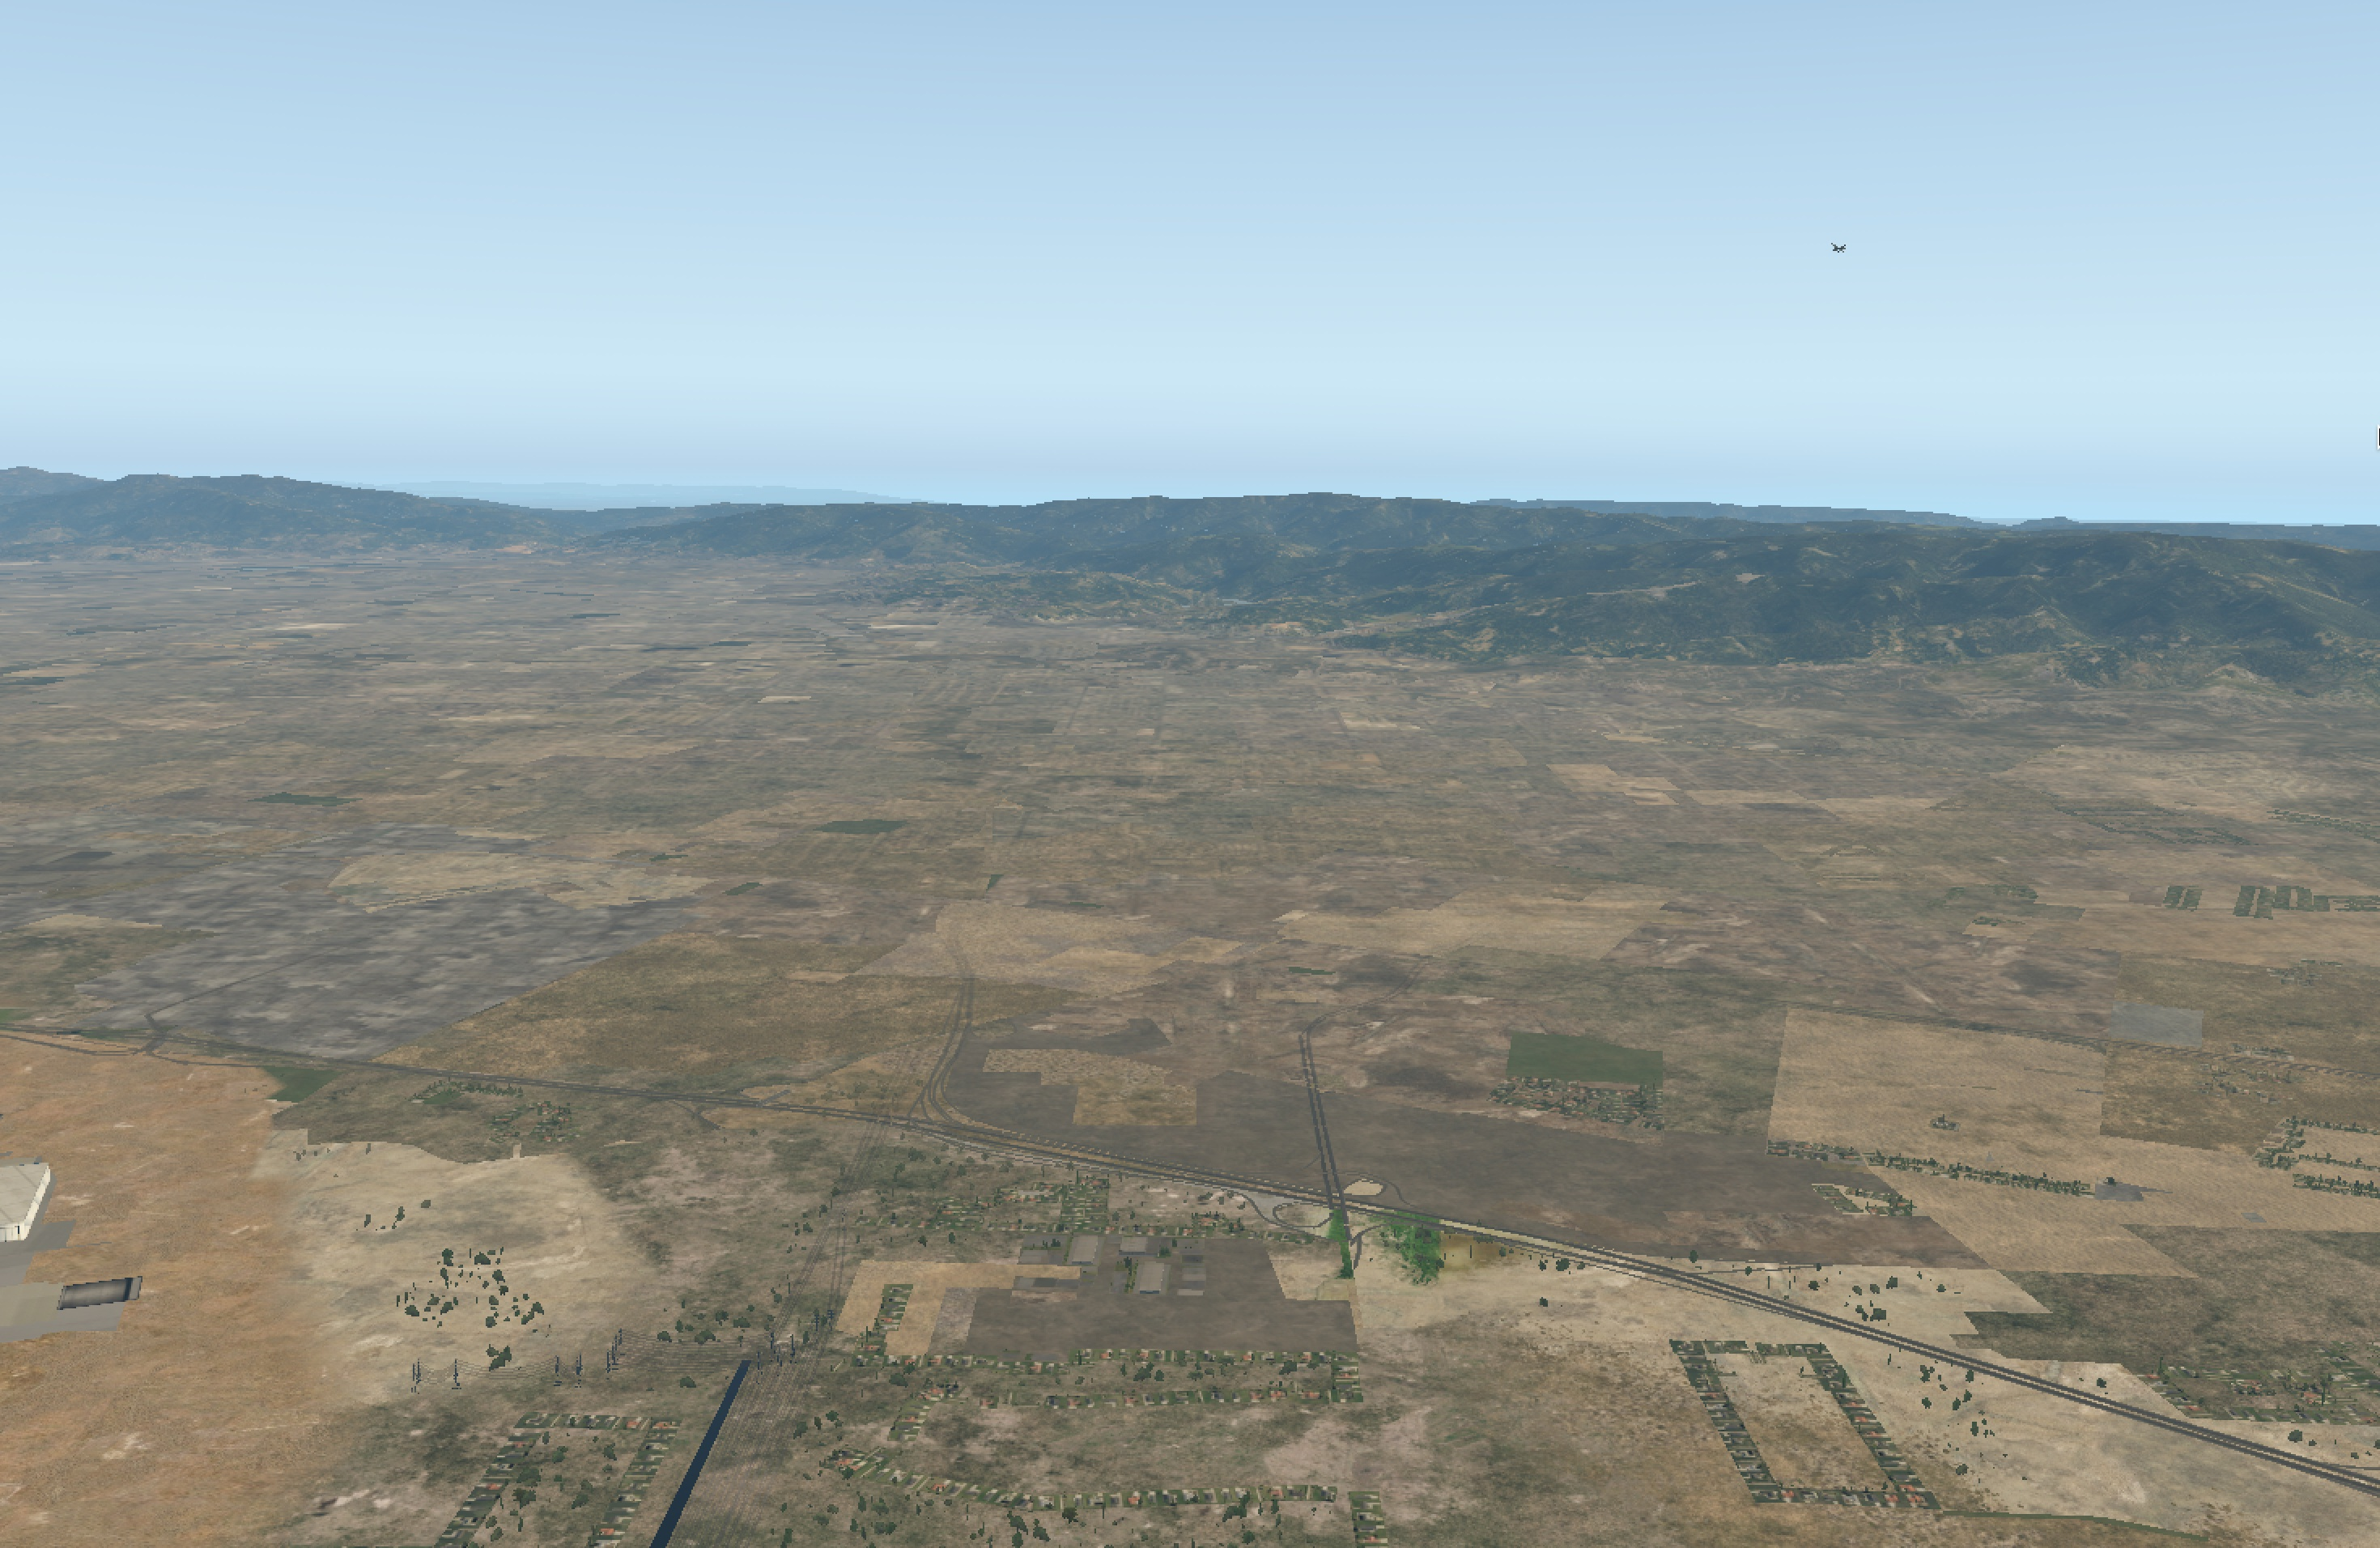aircraft: (1830, 246, 1844, 252)
